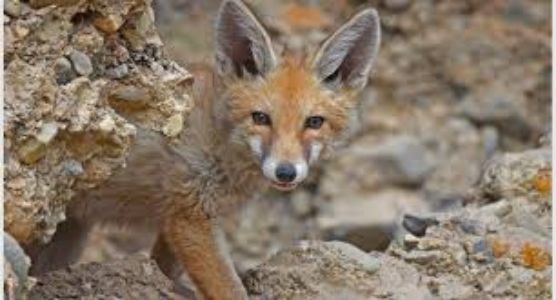fox: (182, 13, 382, 259)
